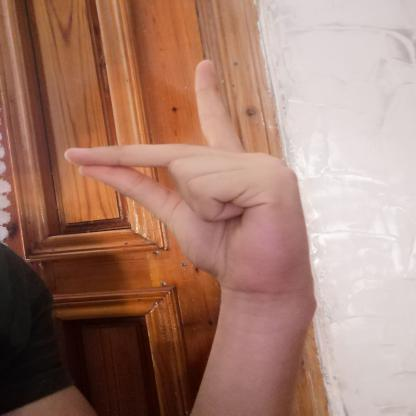TAA: (44, 47, 336, 304)
